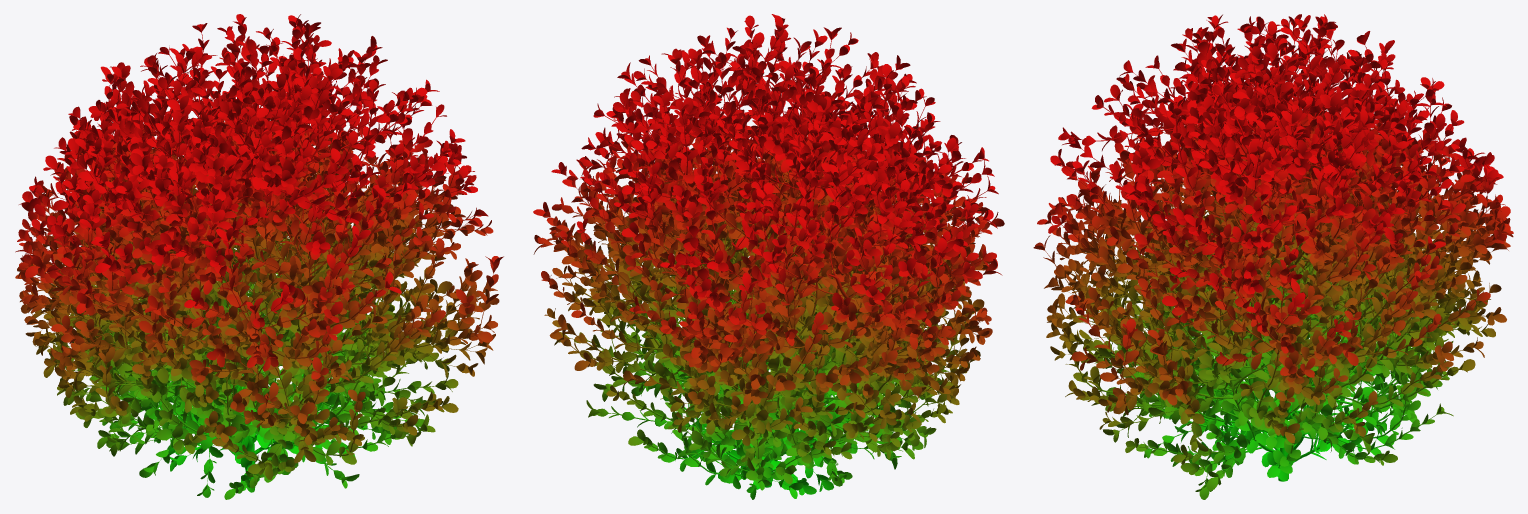
File: Var4_LOD0.fbx
3 renders of one model, left to right at view 1: azimuth 30°, elevation 25°; view 2: azimuth 150°, elevation 25°; view 3: azimuth 270°, elevation 25°, orthographic.
Parts seen in each view (by area): view 1: _csgu_Var4_LOD0; view 2: _csgu_Var4_LOD0; view 3: _csgu_Var4_LOD0.
Boxes of the visible parts, left/top/right/bottom form: _csgu_Var4_LOD0: left=15, top=14, right=503, bottom=499; _csgu_Var4_LOD0: left=533, top=14, right=1004, bottom=499; _csgu_Var4_LOD0: left=1033, top=14, right=1513, bottom=499.
Bounding box in the file's own units: 78.5 × 79.11 × 76.43.
